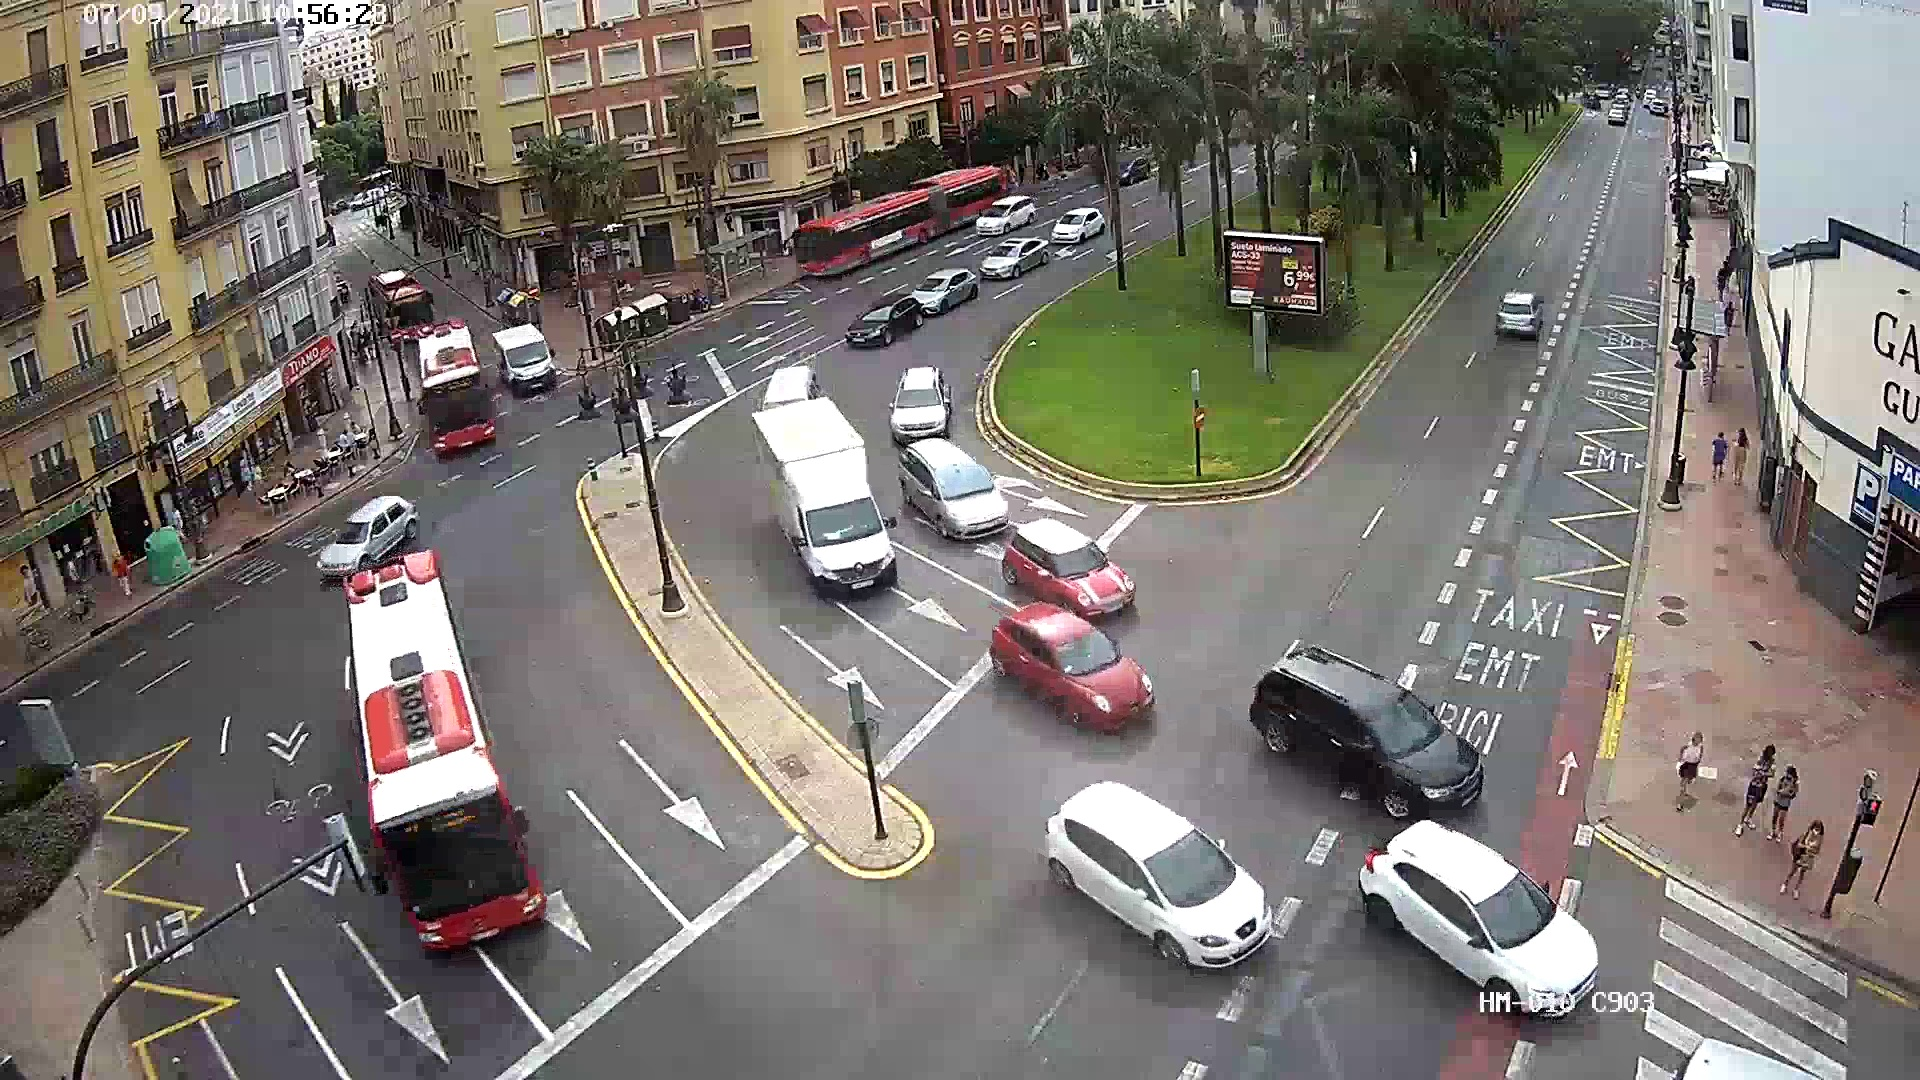Cars: (1338, 831, 1664, 1025), (1204, 624, 1505, 820), (1004, 781, 1288, 968), (976, 603, 1153, 732), (1004, 524, 1156, 616), (887, 433, 1026, 529), (309, 508, 421, 583), (829, 291, 930, 348), (880, 365, 947, 448), (905, 268, 982, 319), (1493, 286, 1545, 344)
